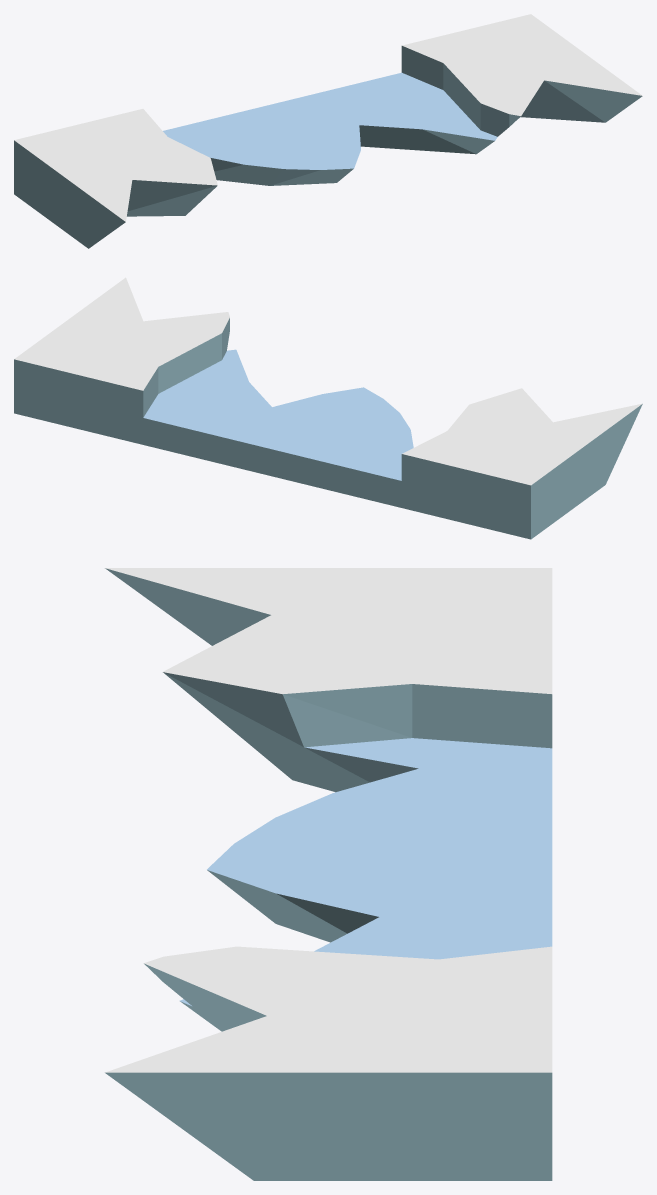
File: Terrain_Modular_Tiles_Snow_Ice_Cliff_Edge_River_Outer_02.fbx
The picture shows the model from 3 angles, top to bottom: view 1: azimuth 30°, elevation 25°; view 2: azimuth 150°, elevation 25°; view 3: azimuth 270°, elevation 25°; orthographic projection. The views are drawn at different scales.
Visible parts, largest first — view 1: Terrain_Modular_Tiles_Snow_Ice_Cliff_Edge_River_Outer_02; view 2: Terrain_Modular_Tiles_Snow_Ice_Cliff_Edge_River_Outer_02; view 3: Terrain_Modular_Tiles_Snow_Ice_Cliff_Edge_River_Outer_02.
Part boxes in pixels (bbox=[...]): Terrain_Modular_Tiles_Snow_Ice_Cliff_Edge_River_Outer_02: bbox=[14, 14, 642, 248]; Terrain_Modular_Tiles_Snow_Ice_Cliff_Edge_River_Outer_02: bbox=[14, 277, 642, 539]; Terrain_Modular_Tiles_Snow_Ice_Cliff_Edge_River_Outer_02: bbox=[105, 568, 552, 1180].
Bounding box in the file's own units: 118 × 11.81 × 44.29.
